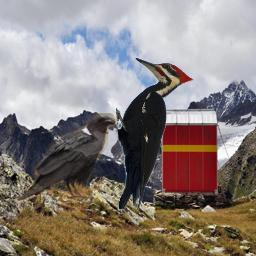Crow: (14, 113, 119, 206)
Woodpecker: (116, 56, 197, 209)
